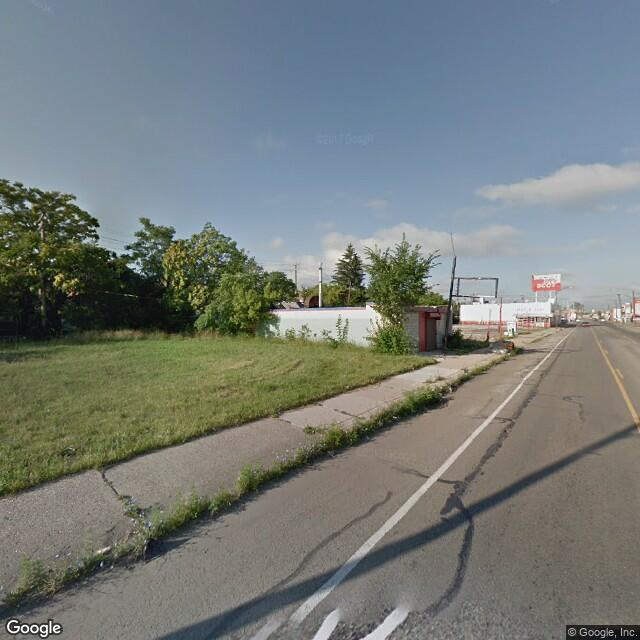litter: (91, 544, 117, 556), (392, 413, 398, 421)
